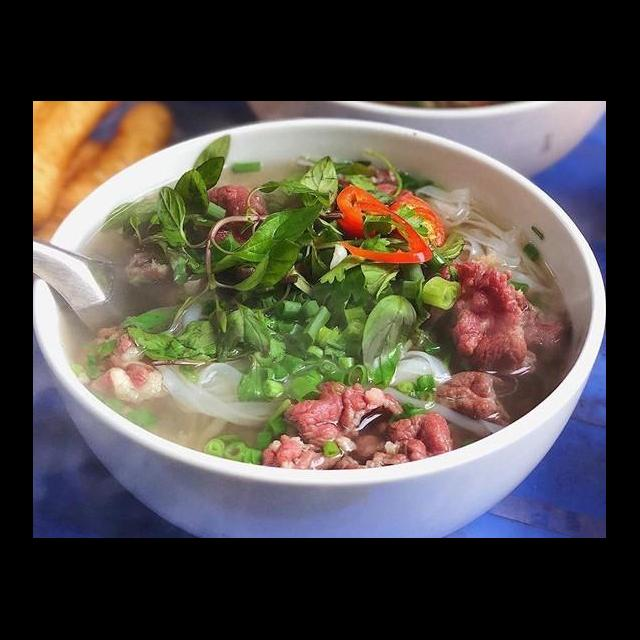banh pho: (410, 178, 564, 300), (144, 346, 296, 434), (376, 348, 458, 420)
pho bo: (43, 126, 606, 538)
thit bo: (255, 376, 458, 476), (444, 262, 572, 384), (202, 178, 306, 294), (78, 316, 166, 412), (437, 366, 518, 432)
